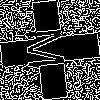M: (25, 25, 75, 71)
